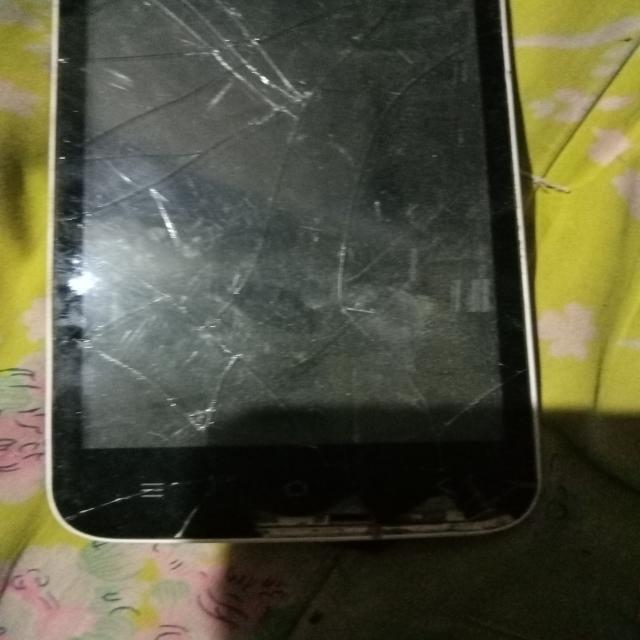screen crack: (58, 0, 530, 523)
